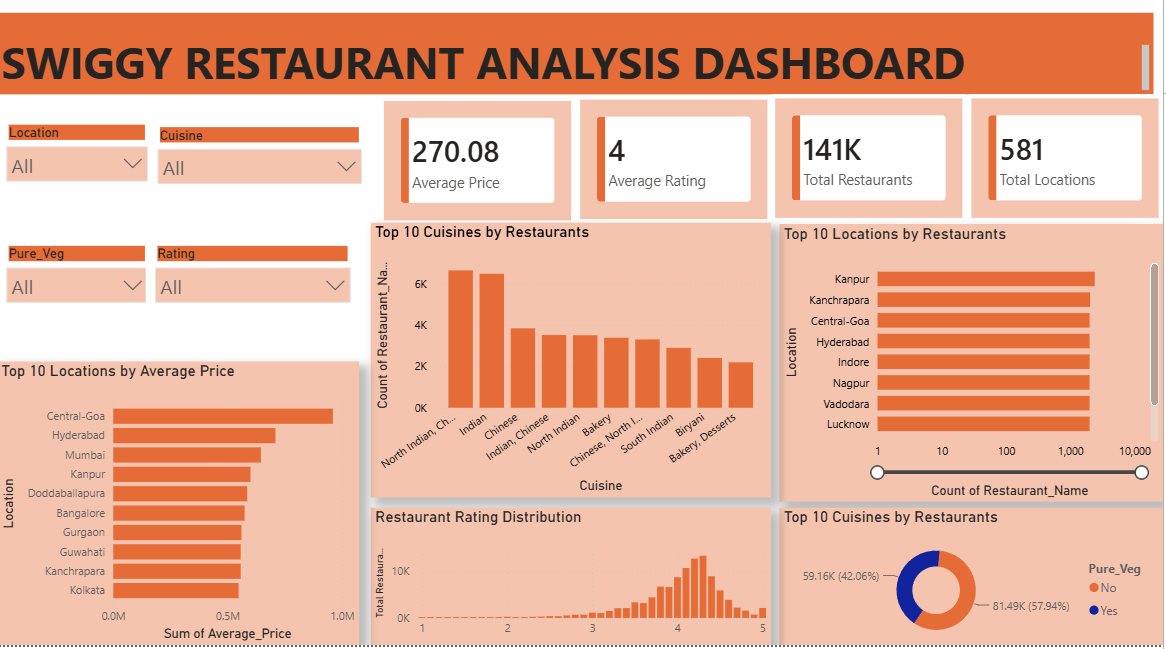

The page's visual inventory and layout, read from the dashboard file:
{"tool":"powerbi","page":{"name":"Page 1","canvas":[1280,720],"ordinal":0},"visuals":[{"type":"textbox","box":[0,26.1,1280.3,89.2],"z":4},{"type":"cardVisual","fields":{"Data":["Swiggy_clean_data.Average Rating"]},"box":[634.9,116.3,215.1,140.7],"z":5},{"type":"cardVisual","fields":{"Data":["Swiggy_clean_data.Total Restaurants"]},"box":[419.8,117.4,215.1,140.7],"z":6},{"type":"cardVisual","fields":{"Data":["Swiggy_clean_data.Average Price"]},"box":[850,115.1,215.1,140.7],"z":7},{"type":"cardVisual","fields":{"Data":["Swiggy_clean_data.Total Locations"]},"box":[1065.1,115.1,215.1,140.7],"z":8},{"type":"clusteredBarChart","title":"Top 10 Locations by Restaurants","fields":{"Category":["Swiggy_clean_data.Location"],"Y":["CountNonNull(Swiggy_clean_data.Restaurant_Name)"]},"box":[859.3,258.1,420.9,304.7],"z":9},{"type":"clusteredColumnChart","title":"Top 10 Cuisines by Restaurants","fields":{"Category":["Swiggy_clean_data.Cuisine"],"Y":["CountNonNull(Swiggy_clean_data.Restaurant_Name)"]},"box":[410.3,256.6,439.1,301.9],"z":10},{"type":"donutChart","title":"Pure Veg vs Non-Pure Veg Restaurants","fields":{"Category":["Swiggy_clean_data.Pure_Veg"],"Y":["Swiggy_clean_data.Total Restaurants"]},"box":[859,569.5,421.3,150.9],"z":11},{"type":"clusteredColumnChart","title":"Restaurant Rating Distribution","fields":{"Y":["Swiggy_clean_data.Total Restaurants"],"Category":["Swiggy_clean_data.Rating"]},"box":[410.3,569.5,439.1,150.9],"z":12},{"type":"clusteredBarChart","title":"Top 10 Locations by Average Price","fields":{"Y":["Sum(Swiggy_clean_data.Average_Price)"],"Category":["Swiggy_clean_data.Location"]},"box":[0,408.9,397.9,311.5],"z":13},{"type":"slicer","fields":{"Values":["Swiggy_clean_data.Location"]},"box":[0,144.1,175.6,82.3],"z":14},{"type":"slicer","fields":{"Values":["Swiggy_clean_data.Cuisine"]},"box":[166,146.8,222.3,82.3],"z":15},{"type":"slicer","fields":{"Values":["Swiggy_clean_data.Pure_Veg"]},"box":[0,277.2,175.6,82.3],"z":16},{"type":"slicer","fields":{"Values":["Swiggy_clean_data.Rating"]},"box":[163.3,277.2,234.6,82.3],"z":17},{"type":"image","box":[1064.8,43.9,85.1,56.3],"z":18}]}

Visuals, with their boxes in screenshot pixels (x1, y1, x2, y2), scaled from the page's 1280x720 canvas onto the 1166x649 screenshot:
textbox: [x1=0, y1=24, x2=1165, y2=104]
cardVisual - Swiggy_clean_data.Average Rating: [x1=578, y1=105, x2=774, y2=232]
cardVisual - Swiggy_clean_data.Total Restaurants: [x1=382, y1=106, x2=578, y2=233]
cardVisual - Swiggy_clean_data.Average Price: [x1=774, y1=104, x2=970, y2=231]
cardVisual - Swiggy_clean_data.Total Locations: [x1=970, y1=104, x2=1165, y2=231]
"Top 10 Locations by Restaurants" clusteredBarChart: [x1=783, y1=233, x2=1165, y2=507]
"Top 10 Cuisines by Restaurants" clusteredColumnChart: [x1=374, y1=231, x2=774, y2=503]
"Pure Veg vs Non-Pure Veg Restaurants" donutChart: [x1=782, y1=513, x2=1165, y2=648]
"Restaurant Rating Distribution" clusteredColumnChart: [x1=374, y1=513, x2=774, y2=648]
"Top 10 Locations by Average Price" clusteredBarChart: [x1=0, y1=369, x2=362, y2=648]
slicer - Swiggy_clean_data.Location: [x1=0, y1=130, x2=160, y2=204]
slicer - Swiggy_clean_data.Cuisine: [x1=151, y1=132, x2=354, y2=207]
slicer - Swiggy_clean_data.Pure_Veg: [x1=0, y1=250, x2=160, y2=324]
slicer - Swiggy_clean_data.Rating: [x1=149, y1=250, x2=362, y2=324]
image: [x1=970, y1=40, x2=1047, y2=90]
